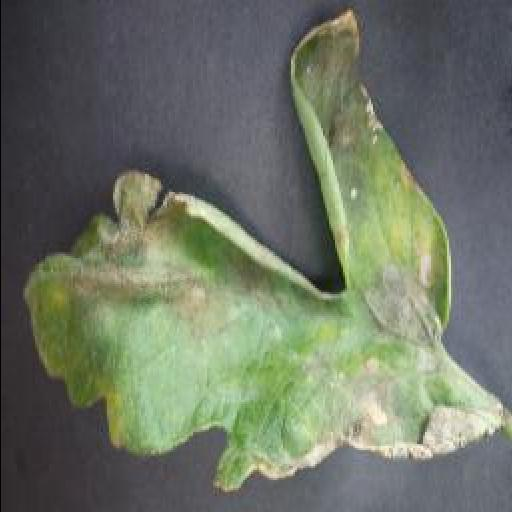disease_tomato: (20, 2, 512, 494)
